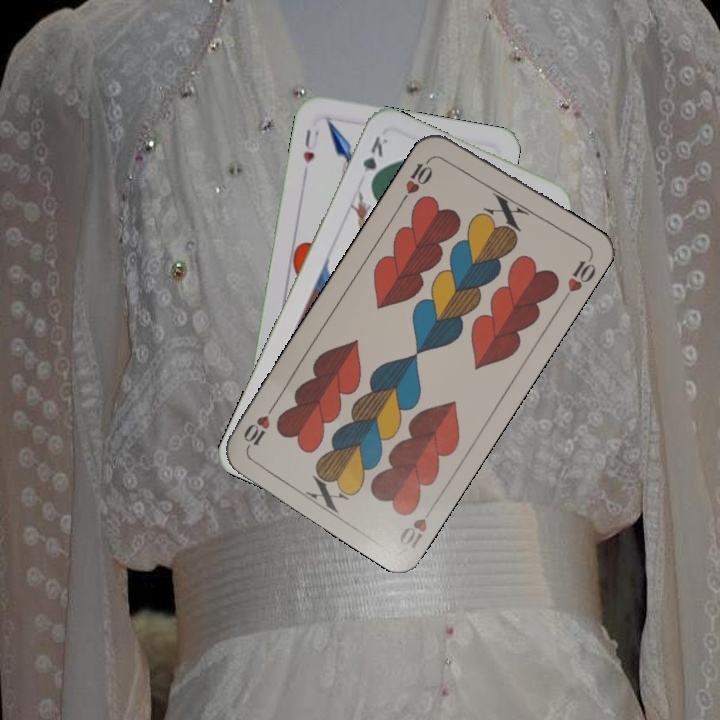GK: (358, 131, 391, 189)
H10: (397, 152, 437, 204), (395, 512, 430, 552)
HU: (299, 124, 322, 166)
